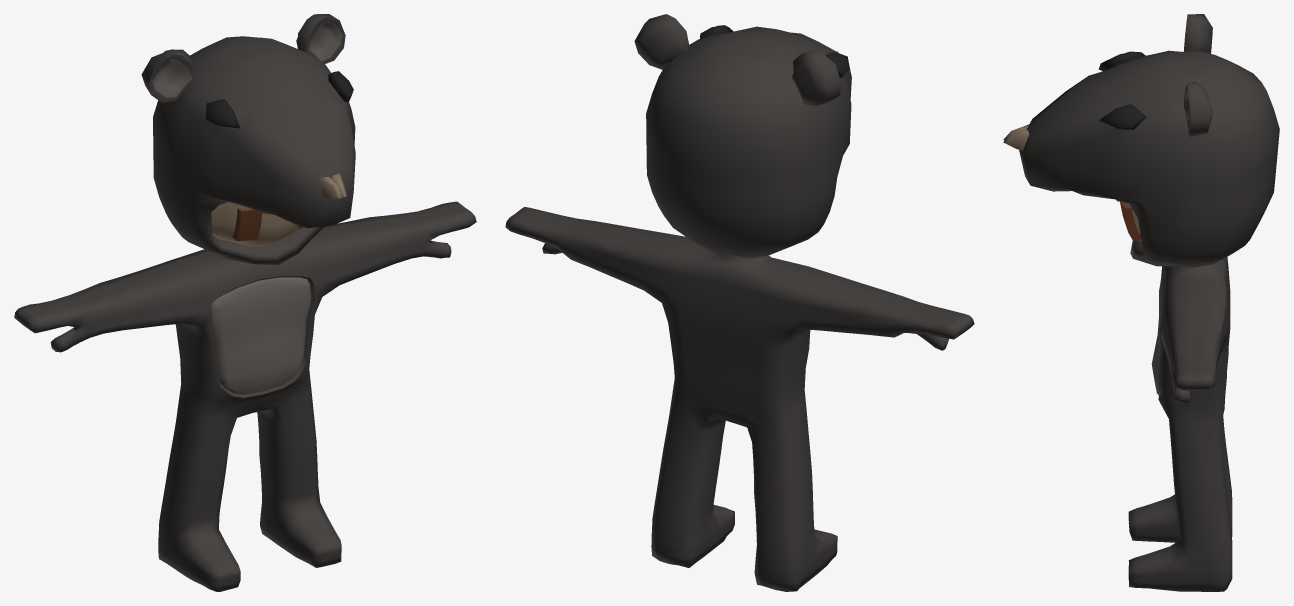
File: PS_Npc03.fbx
3 renders of one model, left to right at view 1: azimuth 30°, elevation 25°; view 2: azimuth 150°, elevation 25°; view 3: azimuth 270°, elevation 25°, orthographic. The views are drawn at different scales.
Parts seen in each view (by area): view 1: PS_Npc03; view 2: PS_Npc03; view 3: PS_Npc03.
Part boxes in pixels (left/top/right/bottom): PS_Npc03: left=14, top=14, right=476, bottom=591; PS_Npc03: left=505, top=14, right=974, bottom=591; PS_Npc03: left=1003, top=14, right=1279, bottom=591.
Size of the model in its own units: 1.5 by 1.68 by 0.8292.
